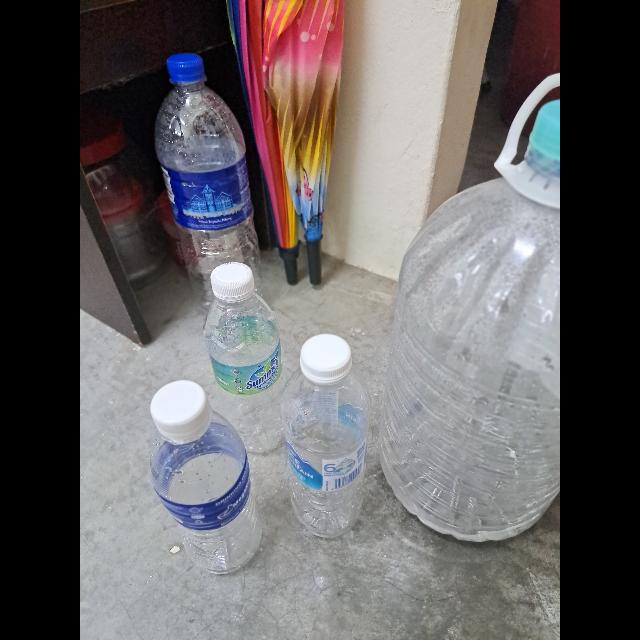garrafa plástica: (380, 158, 560, 542), (153, 81, 261, 307), (152, 410, 262, 578), (284, 364, 370, 538), (205, 291, 287, 454)
tampa plástica: (151, 379, 211, 437), (300, 334, 352, 381), (528, 98, 560, 166), (211, 262, 255, 300), (166, 53, 204, 81)
